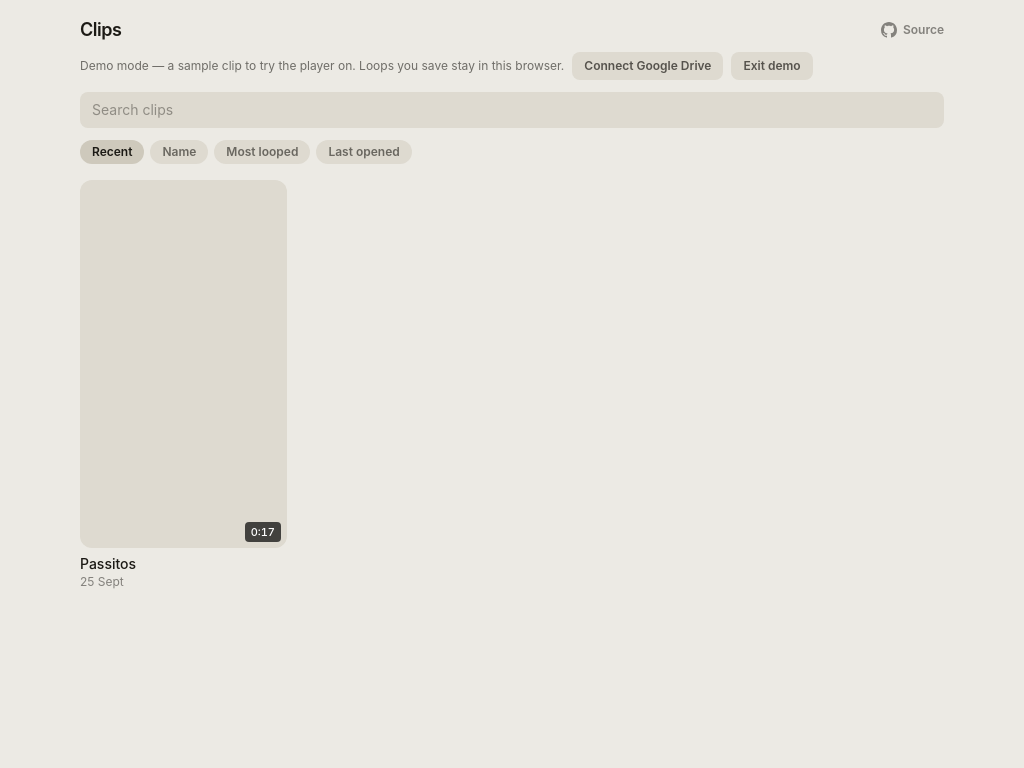
Test: leaving the demo › ends the demo on signing in, and shows the dancer’s real library
This screenshot has width=1024, height=768.
Click the button "Connect Google Drive": (648, 66) [572, 52, 723, 80]
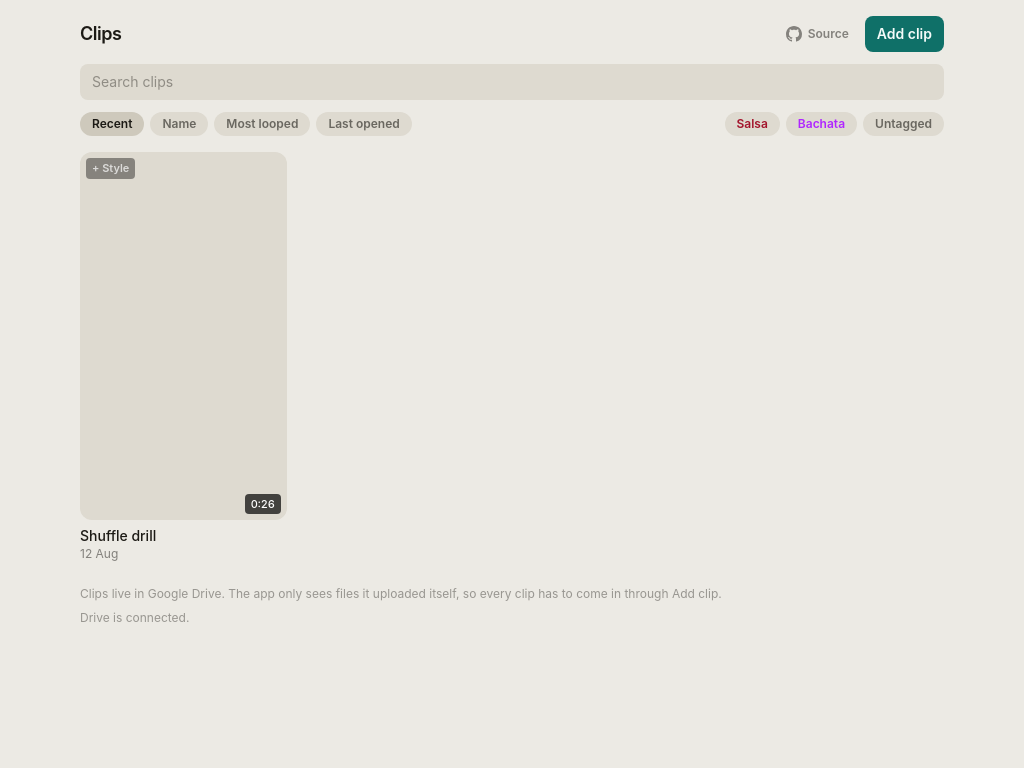
Expected: the text "Shuffle drill" is shown, [80, 527, 156, 544]
Expected: the link "Passitos" is gone
